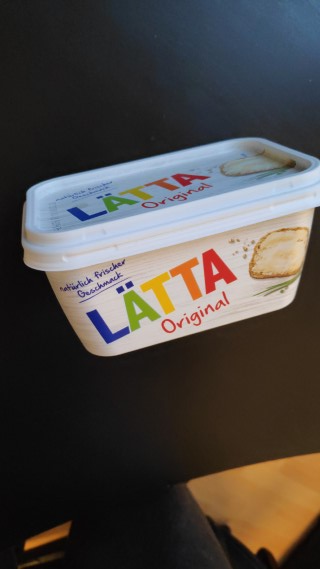laetta: (20, 137, 320, 357)
